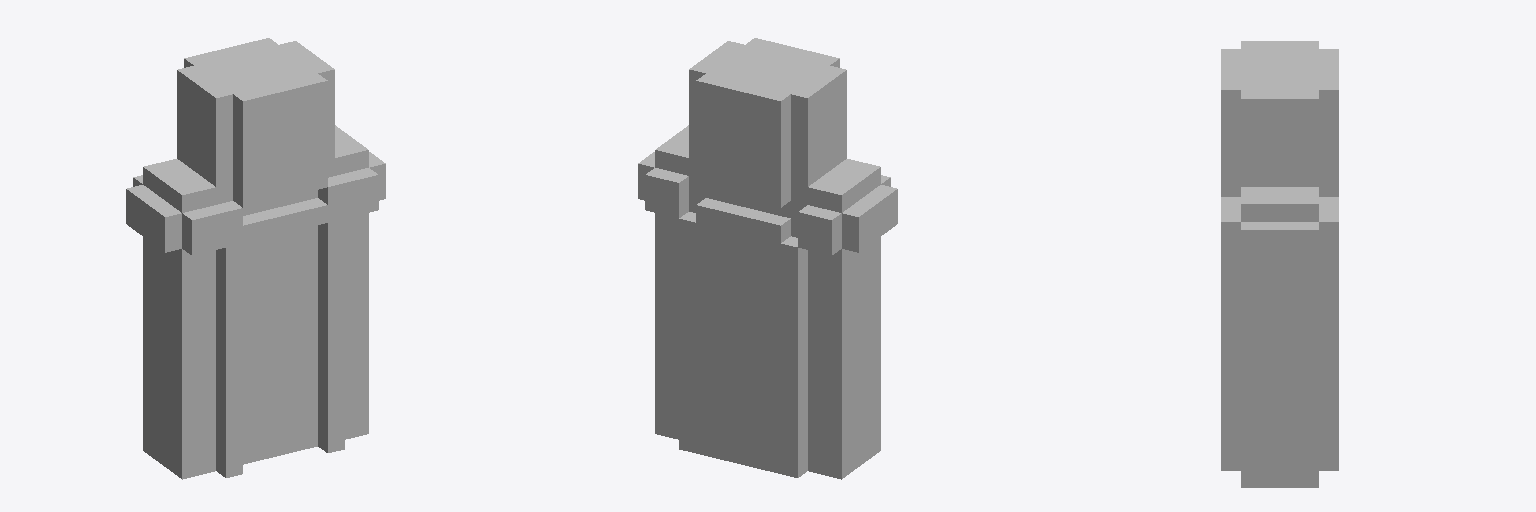
File: Walk3.obj
3 views of the same model, side by side, from view 1: azimuth 30°, elevation 25°; view 2: azimuth 150°, elevation 25°; view 3: azimuth 270°, elevation 25° (orthographic).
Size of the model in its own units: 13 by 21 by 6.